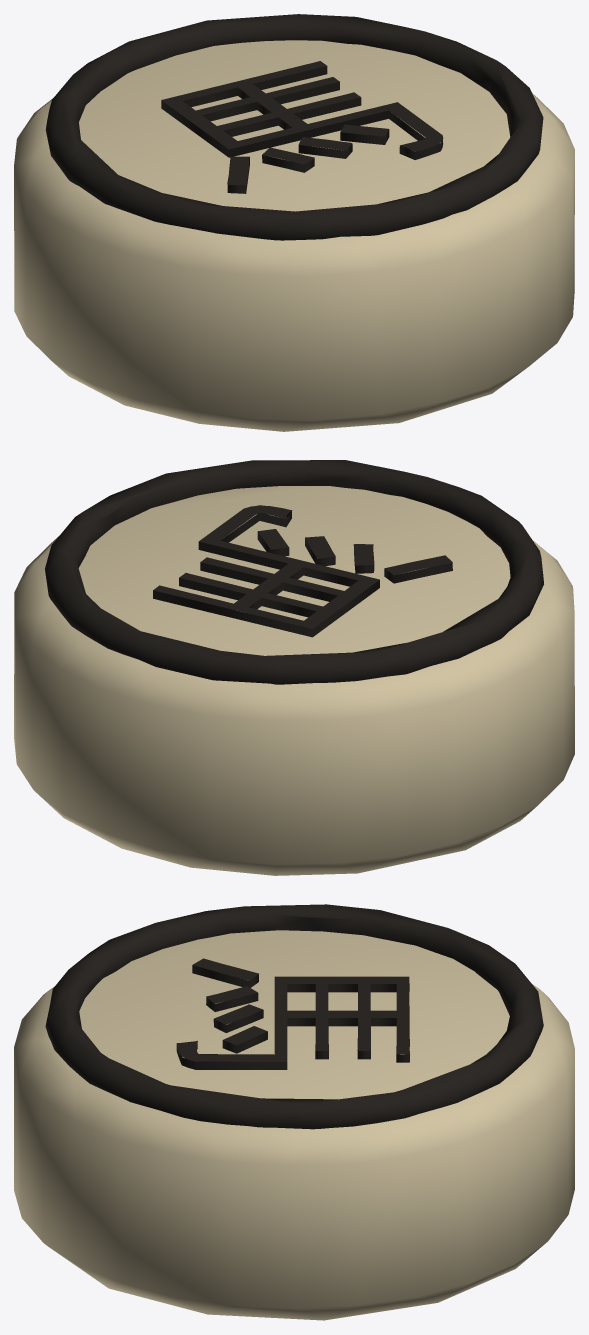
The model's file is quan_den_ma.glb.
3 views of the same model, one above another, from view 1: azimuth 30°, elevation 25°; view 2: azimuth 150°, elevation 25°; view 3: azimuth 270°, elevation 25° (orthographic).
Visible parts, largest first — view 1: quan_den_ma; view 2: quan_den_ma; view 3: quan_den_ma.
Part boxes in pixels (box(x1,y1,x2,y2)): quan_den_ma: box(14, 14, 574, 431); quan_den_ma: box(14, 460, 574, 875); quan_den_ma: box(14, 904, 574, 1320).
Bounding box in the file's own units: 0.0366 × 0.0153 × 0.0366.
